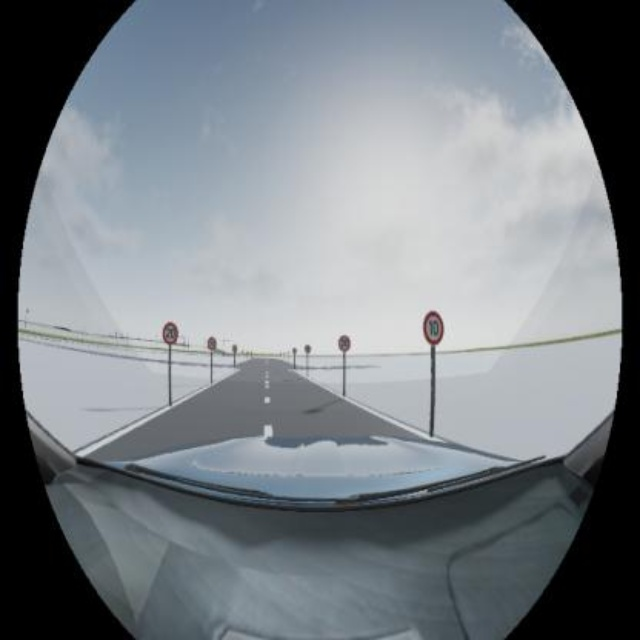Tốc độ tối đa cho phép 10km/h: (423, 311, 444, 346)
Tốc độ tối đa cho phép 20km/h: (162, 321, 178, 345), (338, 335, 351, 351)
